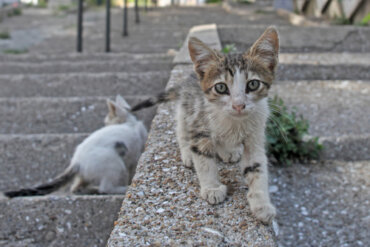cat: (135, 31, 299, 229)
